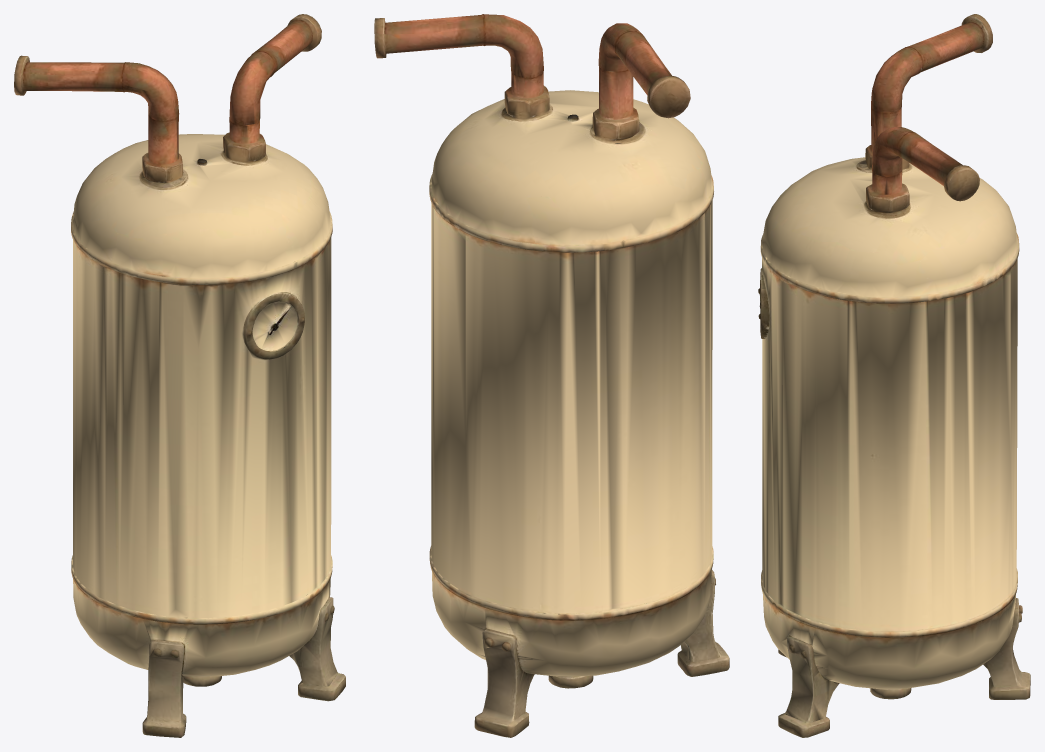
Rendered from boiler.glb.
3 views of the same model, side by side, from view 1: azimuth 30°, elevation 25°; view 2: azimuth 150°, elevation 25°; view 3: azimuth 270°, elevation 25° (orthographic). The views are drawn at different scales.
Parts seen in each view (by area): view 1: boiler; view 2: boiler; view 3: boiler.
Part boxes in pixels (<box>): boiler: <box>14,14,345,737</box>; boiler: <box>374,14,729,737</box>; boiler: <box>758,14,1030,737</box>.
Size of the model in its own units: 1.17 by 2.34 by 0.94.
Materials: 1 (1 with a texture image).
